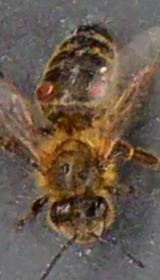varroa_mite: (34, 77, 58, 102)
